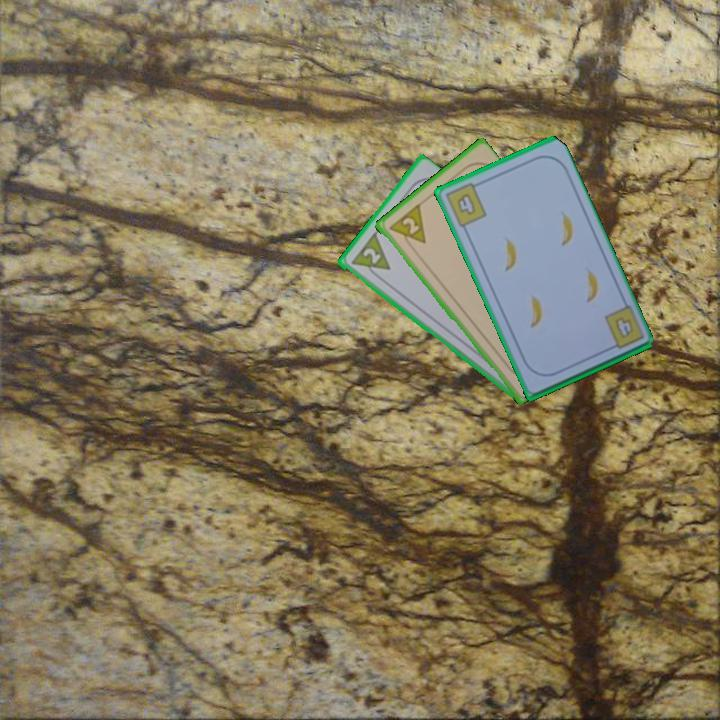2p: (347, 231, 393, 283), (385, 201, 429, 253)
4b: (442, 178, 489, 230), (611, 313, 636, 341)
